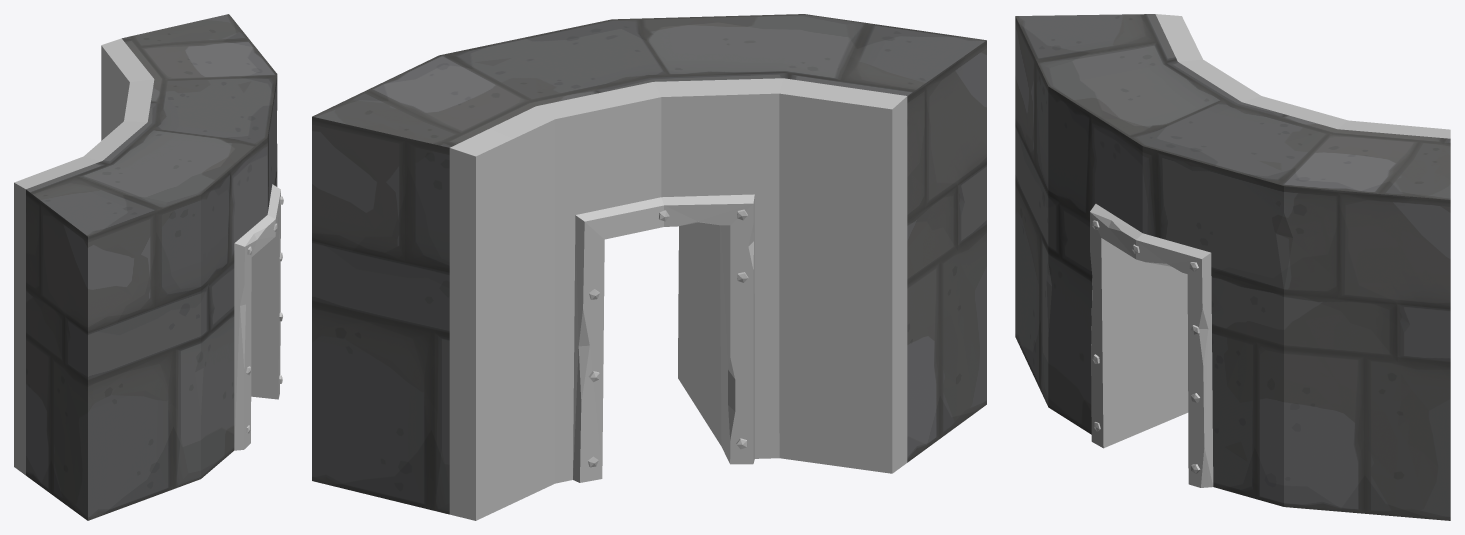
Rendered from SM_Bld_Wall_L_Curve_Door_03.fbx.
3 renders of one model, left to right at view 1: azimuth 30°, elevation 25°; view 2: azimuth 150°, elevation 25°; view 3: azimuth 270°, elevation 25°, orthographic. The views are drawn at different scales.
Parts seen in each view (by area): view 1: SM_Bld_Wall_L_Curve_Door_03; view 2: SM_Bld_Wall_L_Curve_Door_03; view 3: SM_Bld_Wall_L_Curve_Door_03.
Part boxes in pixels (x1,y1,x2,y2): SM_Bld_Wall_L_Curve_Door_03: (14, 14, 283, 520); SM_Bld_Wall_L_Curve_Door_03: (312, 14, 986, 520); SM_Bld_Wall_L_Curve_Door_03: (1015, 14, 1450, 520).
Size of the model in its own units: 369 by 302 by 369.
